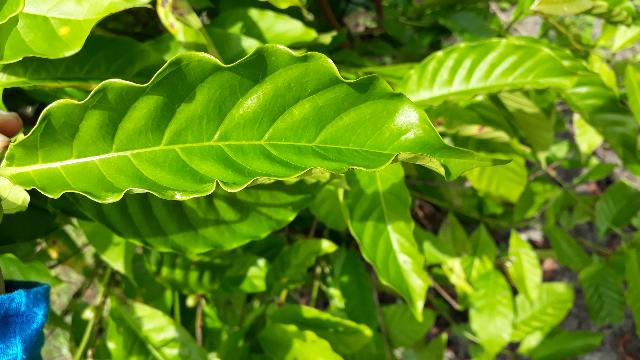healthy: (2, 43, 514, 201)
